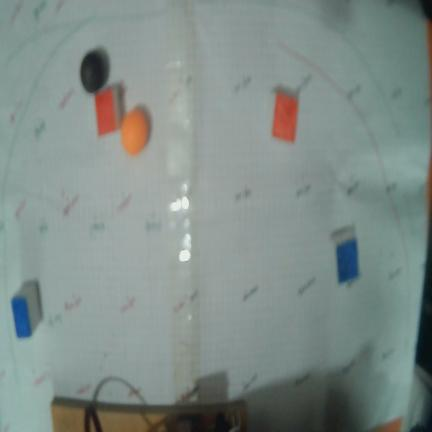circle_blue: (80, 51, 107, 92)
circle_orange: (121, 109, 148, 155)
rectangle_blue: (12, 299, 31, 339)
rectangle_orange: (94, 89, 116, 141)
square_blue: (337, 238, 360, 284)
square_orange: (272, 90, 300, 143)
